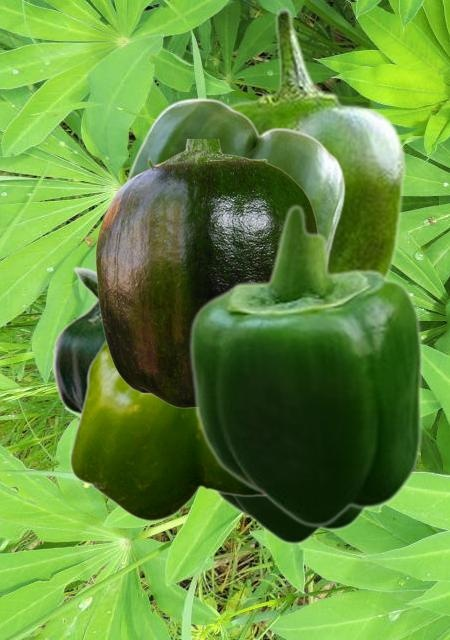bell_pepper: (188, 203, 423, 528), (95, 139, 318, 407), (225, 7, 406, 277), (123, 97, 344, 257), (69, 340, 261, 521), (51, 264, 104, 418), (214, 492, 365, 545)
